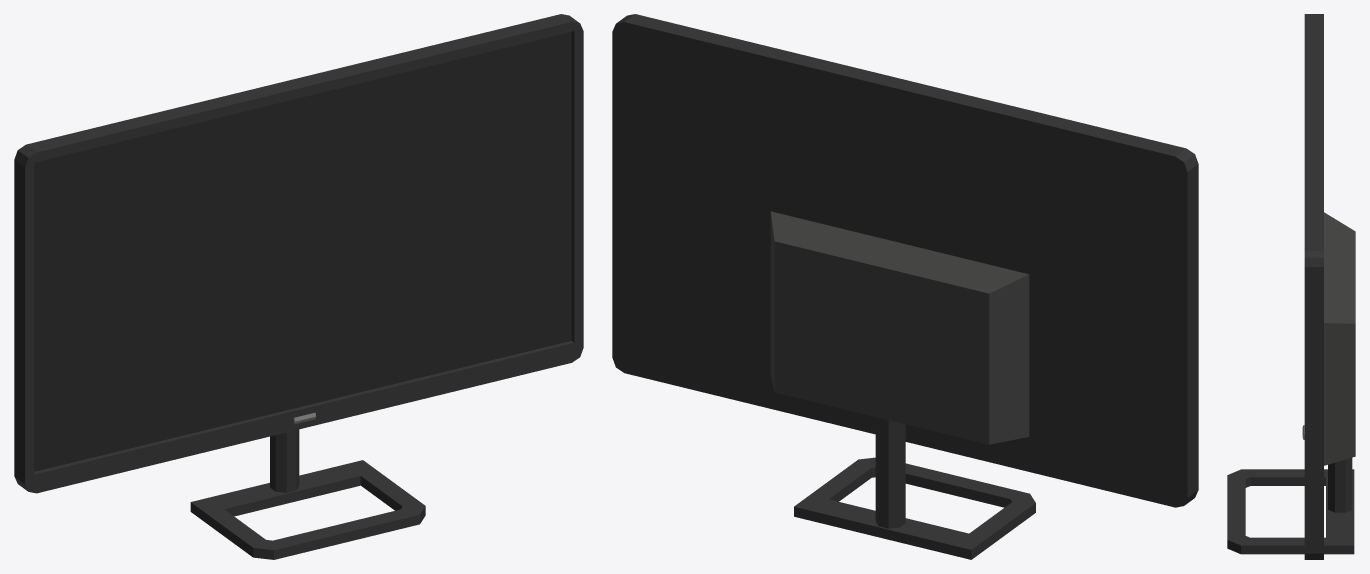
Rendered from SM_Props_Interior_Shop_Electronic_Monitor_01.fbx.
The picture shows the model from 3 angles, left to right: view 1: azimuth 30°, elevation 25°; view 2: azimuth 150°, elevation 25°; view 3: azimuth 270°, elevation 25°; orthographic projection. The views are drawn at different scales.
Visible parts, largest first — view 1: SM_Props_Interior_Shop_Electronic_Monitor_01; view 2: SM_Props_Interior_Shop_Electronic_Monitor_01; view 3: SM_Props_Interior_Shop_Electronic_Monitor_01.
Part boxes in pixels (x1,y1,x2,y2): SM_Props_Interior_Shop_Electronic_Monitor_01: (14, 14, 583, 559); SM_Props_Interior_Shop_Electronic_Monitor_01: (612, 14, 1198, 559); SM_Props_Interior_Shop_Electronic_Monitor_01: (1227, 14, 1355, 559).
Bounding box in the file's own units: 60 × 43.5 × 13.21.
